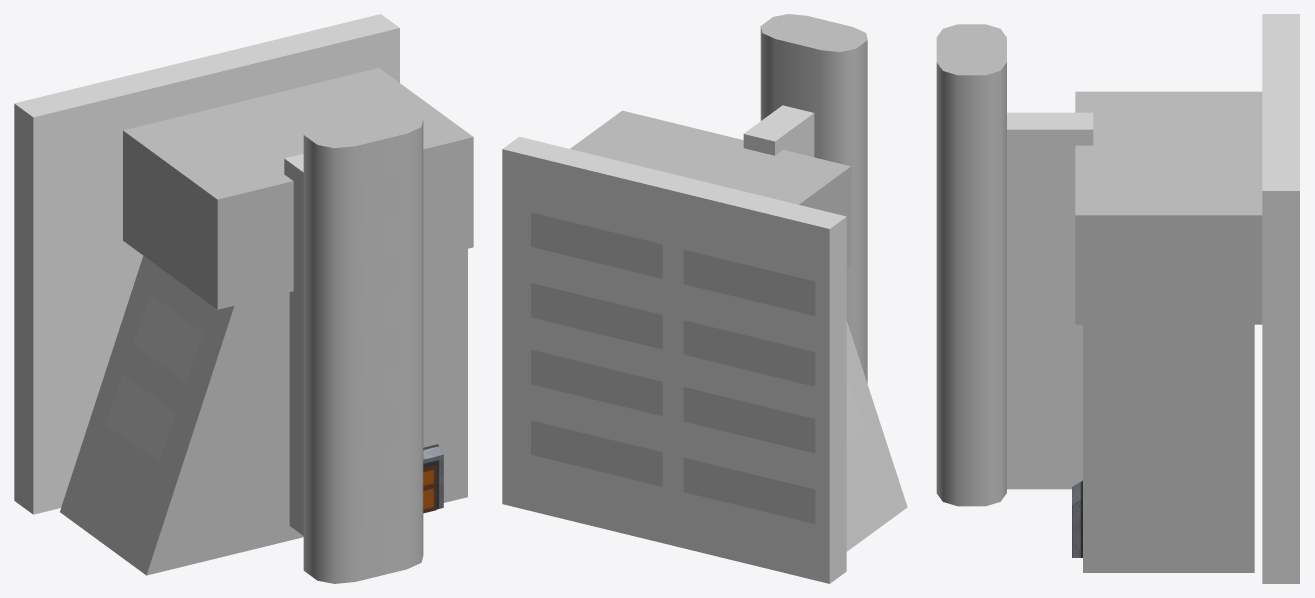
The model's file is building3_5.fbx.
The picture shows the model from 3 angles, left to right: view 1: azimuth 30°, elevation 25°; view 2: azimuth 150°, elevation 25°; view 3: azimuth 270°, elevation 25°; orthographic projection. The views are drawn at different scales.
Parts seen in each view (by area): view 1: Cube.017, Cube.068, Cube.066, Cube.067, 1.094, 1.097, Cube.065, 1.099, 1.095, 1.096; view 2: Cube.017, Cube.066, Cube.067, Cube.068, 1.103, 1.104, 1.105, 1.106, 1.100, 1.102, 1.101, 1.068 (+2 smaller); view 3: Cube.067, Cube.066, Cube.068, Cube.065, Cube.017, 1.098, 1.095, 1.096.
Part boxes in pixels (x1=…): Cube.017: x1=14, y1=14, x2=399, y2=514; Cube.068: x1=60, y1=249, x2=467, y2=575; Cube.066: x1=303, y1=105, x2=423, y2=583; Cube.067: x1=123, y1=68, x2=473, y2=309; 1.094: x1=362, y1=173, x2=399, y2=529; 1.097: x1=106, y1=295, x2=203, y2=462; Cube.065: x1=284, y1=153, x2=303, y2=535; 1.099: x1=423, y1=178, x2=457, y2=395; 1.095: x1=142, y1=176, x2=195, y2=263; 1.096: x1=423, y1=444, x2=443, y2=513; Cube.017: x1=502, y1=136, x2=846, y2=583; Cube.066: x1=760, y1=14, x2=867, y2=383; Cube.067: x1=570, y1=110, x2=851, y2=267; Cube.068: x1=846, y1=321, x2=907, y2=551; 1.103: x1=683, y1=457, x2=815, y2=523; 1.104: x1=683, y1=387, x2=815, y2=453; 1.105: x1=683, y1=320, x2=815, y2=386; 1.106: x1=683, y1=249, x2=815, y2=315; 1.100: x1=531, y1=349, x2=662, y2=416; 1.102: x1=531, y1=212, x2=662, y2=278; 1.101: x1=531, y1=283, x2=662, y2=349; 1.068: x1=531, y1=420, x2=662, y2=486; Cube.067: x1=1075, y1=91, x2=1262, y2=324; Cube.066: x1=936, y1=24, x2=1006, y2=506; Cube.068: x1=1083, y1=324, x2=1254, y2=572; Cube.065: x1=1007, y1=112, x2=1093, y2=489; Cube.017: x1=1262, y1=14, x2=1299, y2=583; 1.098: x1=1126, y1=349, x2=1213, y2=534; 1.095: x1=1117, y1=246, x2=1221, y2=294; 1.096: x1=1072, y1=480, x2=1082, y2=557.
Size of the model in its own units: 664 by 780 by 577.
